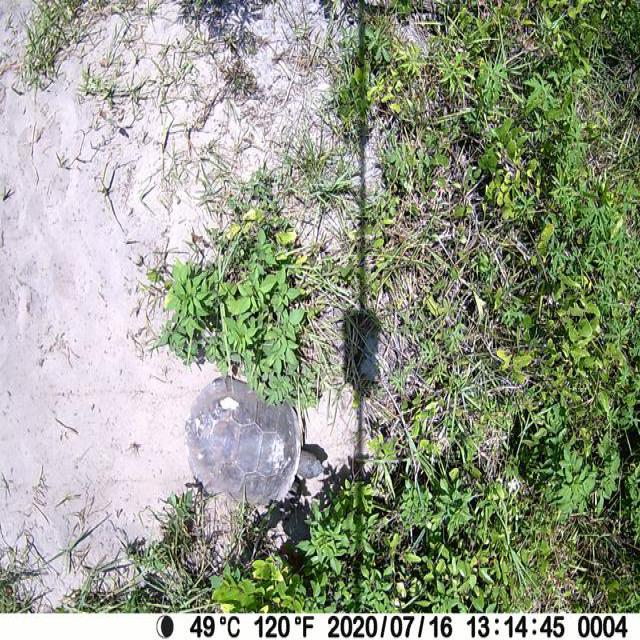tortoise: (183, 374, 322, 509)
